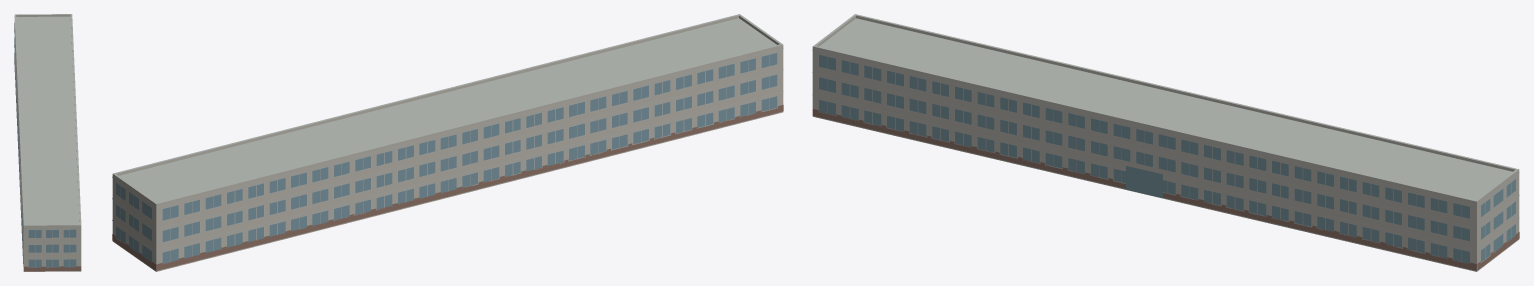
File: public-049c399d-7cd0-460b-88ad-e9a8ac195ac7.glb
The picture shows the model from 3 angles, left to right: view 1: azimuth 30°, elevation 25°; view 2: azimuth 150°, elevation 25°; view 3: azimuth 270°, elevation 25°; orthographic projection. The views are drawn at different scales.
Visible parts, largest first — view 1: public-049c399d-7cd0-460b-88ad-e9a8ac195ac7; view 2: public-049c399d-7cd0-460b-88ad-e9a8ac195ac7; view 3: public-049c399d-7cd0-460b-88ad-e9a8ac195ac7.
Part boxes in pixels (x1=…): public-049c399d-7cd0-460b-88ad-e9a8ac195ac7: x1=14, y1=14, x2=81, y2=271; public-049c399d-7cd0-460b-88ad-e9a8ac195ac7: x1=112, y1=14, x2=783, y2=271; public-049c399d-7cd0-460b-88ad-e9a8ac195ac7: x1=812, y1=14, x2=1519, y2=271.
Size of the model in its own units: 52.5 by 9.15 by 83.45.
